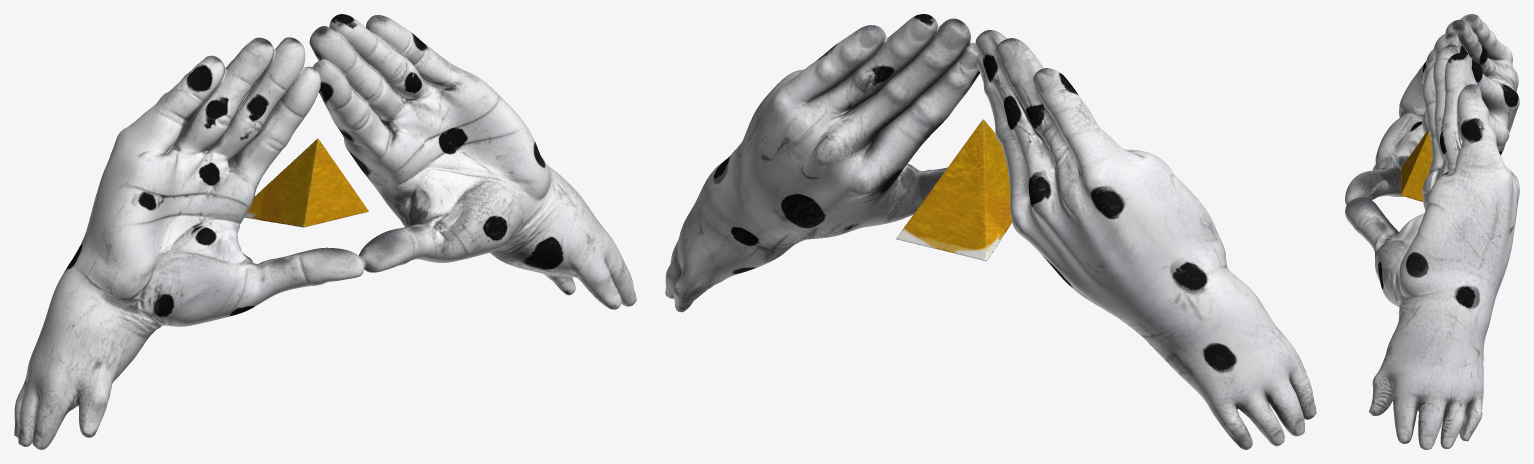
The model's file is Meshy_AI_Hands_Framing_a_Trian_0512211105_texture.glb.
The picture shows the model from 3 angles, left to right: view 1: azimuth 30°, elevation 25°; view 2: azimuth 150°, elevation 25°; view 3: azimuth 270°, elevation 25°; orthographic projection. The views are drawn at different scales.
Bounding box in the file's own units: 1.9 × 1.01 × 0.5512.
1 material, 1 textured.
